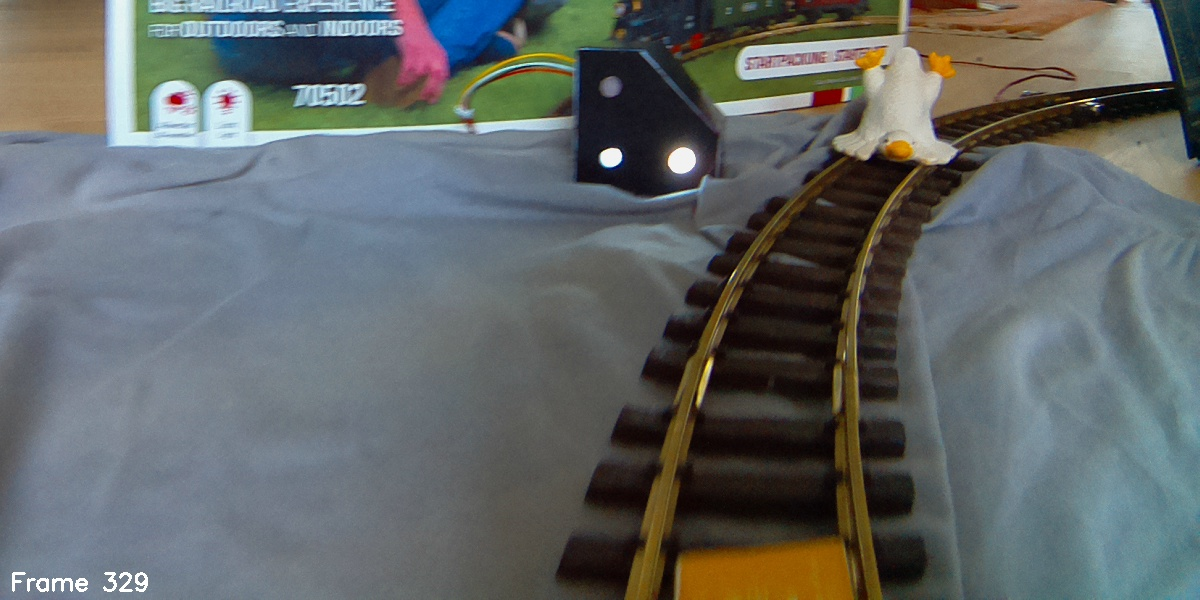Halt: (574, 49, 726, 196)
